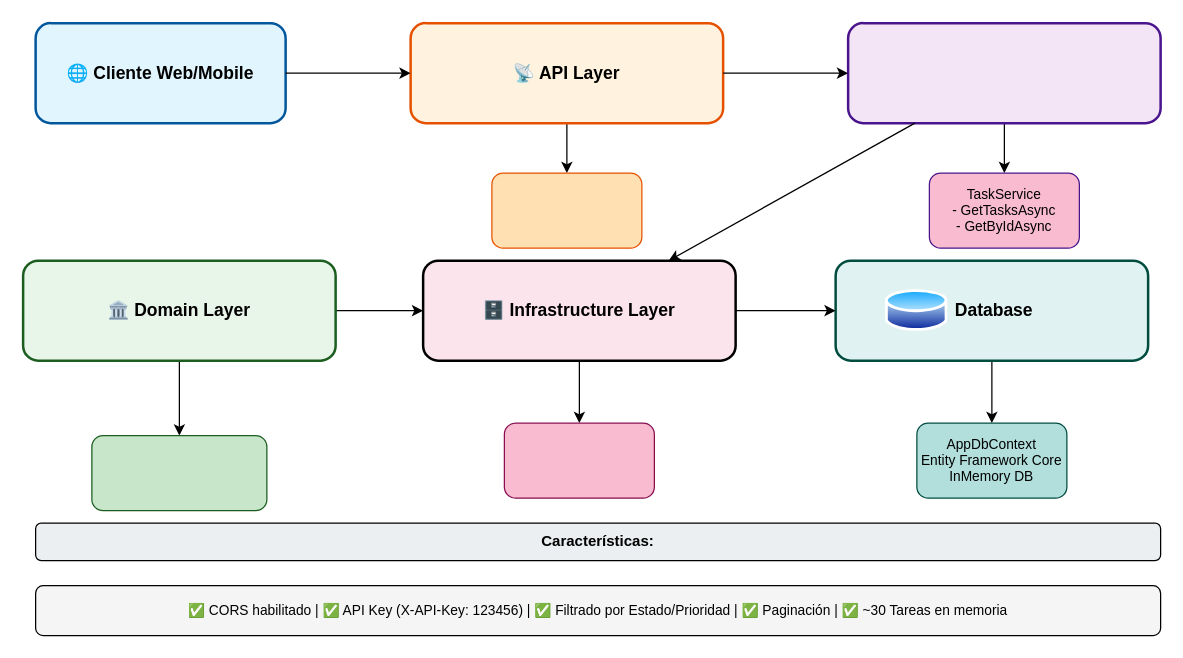
Some shapes in this 1183 by 658 pixel diagram are drawn without their labels. The shapes that lost their labels are listed below. From the top down, each one's centre as x and y in pixels, then its label:
point (1003, 72): ⚙️ Application Layer
point (566, 210): TasksController GET /api/tasks GET /api/tasks/{id}
point (179, 472): TaskItem Entity + Id, Title + Description
point (578, 460): TaskRepository - GetPagedAsync - GetByIdAsync
